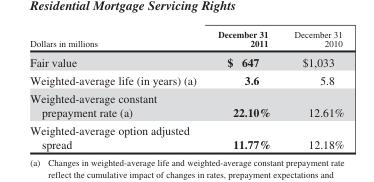table: (29, 28, 343, 150)
table column: (29, 28, 206, 150), (206, 28, 281, 150), (281, 28, 343, 150)
table column header: (29, 28, 343, 51)
table row: (29, 88, 343, 121), (29, 121, 343, 150), (29, 28, 343, 51), (29, 51, 343, 70), (29, 70, 343, 88)
